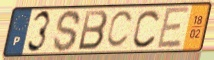3: (25, 9, 55, 54)
B: (76, 9, 110, 52)
C: (132, 8, 163, 50), (105, 9, 135, 50)
E: (155, 6, 192, 51)
S: (52, 9, 83, 54)
